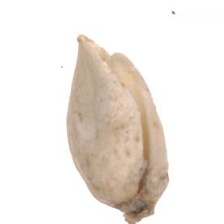L1: (76, 32, 131, 70), (107, 195, 162, 218)
L2: (66, 34, 169, 219)
